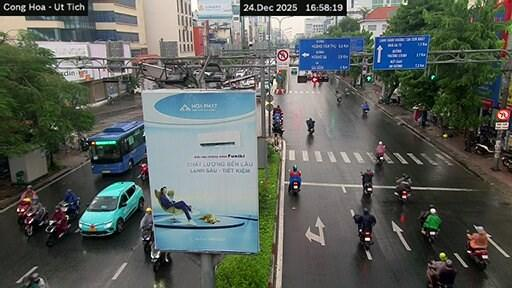motorbike: (466, 240, 489, 269), (45, 220, 70, 246), (24, 208, 47, 236), (150, 244, 171, 271), (467, 247, 489, 269), (59, 197, 79, 220), (394, 176, 411, 202), (16, 200, 30, 224), (475, 139, 495, 154), (141, 228, 152, 254), (421, 228, 438, 242), (359, 231, 372, 249), (501, 151, 511, 171), (137, 163, 148, 181), (395, 189, 410, 202), (428, 280, 453, 287), (79, 136, 88, 151), (272, 124, 283, 136), (289, 181, 299, 194), (306, 118, 314, 134), (363, 182, 372, 195), (376, 154, 384, 164), (312, 77, 318, 86), (336, 93, 341, 103), (308, 127, 314, 134), (362, 109, 368, 116)
